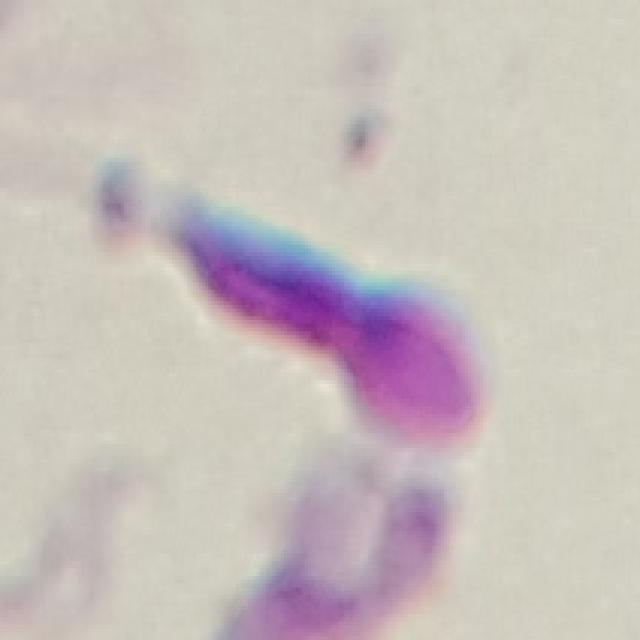abnormal sperm: (30, 151, 502, 469)
